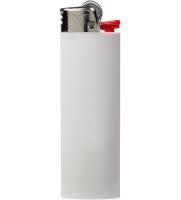lighter: (59, 0, 122, 200)
